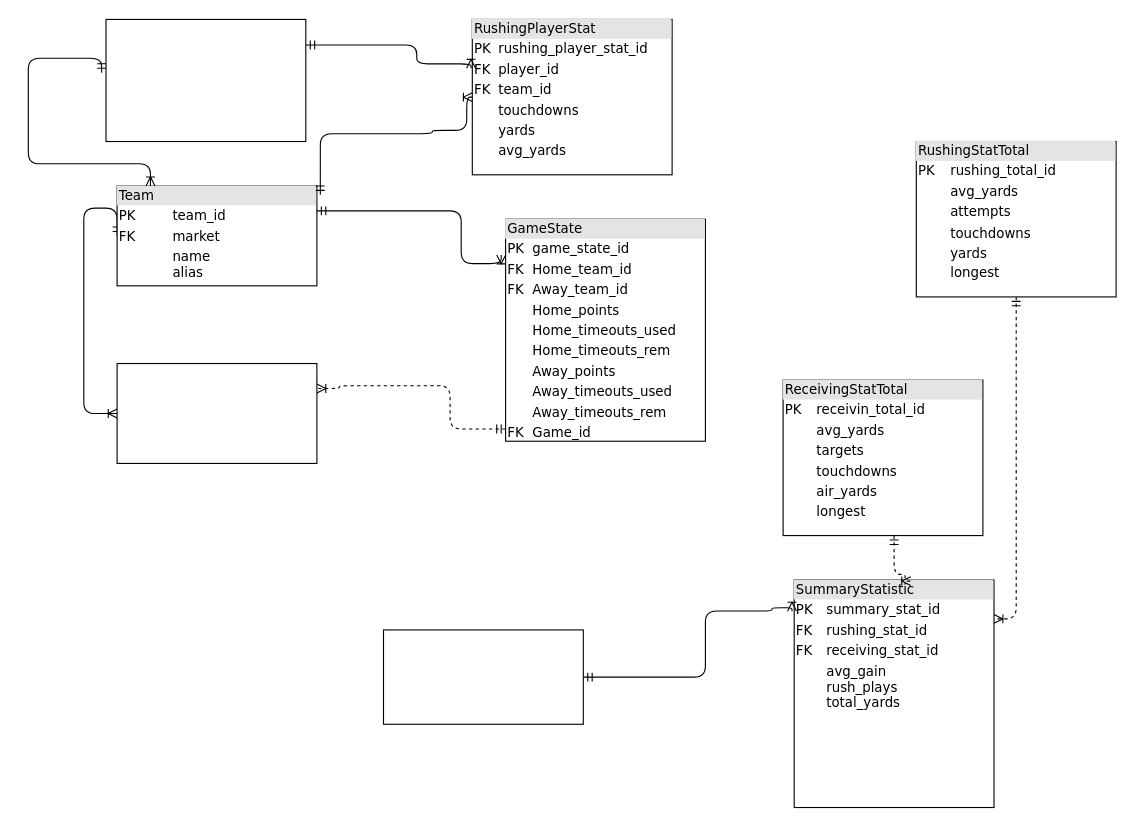
The diagram is 1136 pixels wide and 827 high, and some of its shapes have lost their labels. The shapes that lost their labels are listed below. From the top down, each one's centre as x and y in pixels, then its label:
At (x=205, y=80): "Player PK player_id FK team_id name jersey position".
At (x=216, y=412): "Game PK game_id FK home_team_id FK away_team_id".
At (x=482, y=676): "GameStatistic PK game_stats_id FK Home_summary_id FK Away_summary_id".
